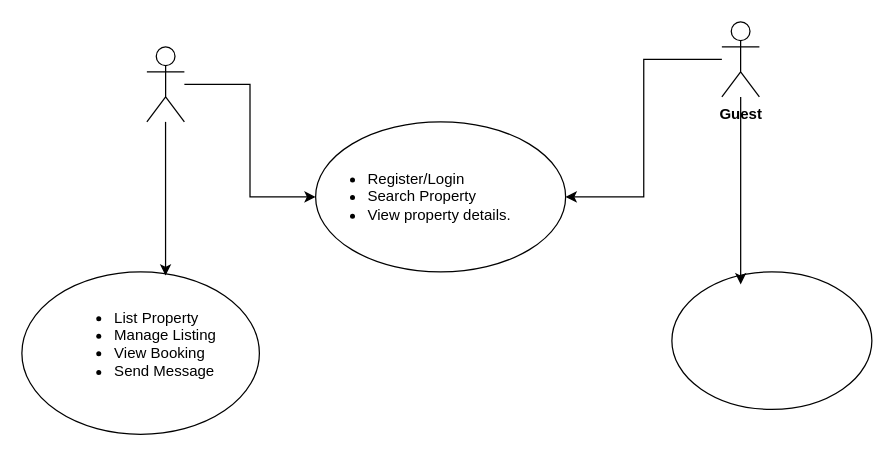
Some shapes in this 894 by 456 pixel diagram are drawn without their labels. The box of each missing label's shape, as (x1, y1, x2, y2) in pixels:
Book property Make payment Send message Leave review: (671, 271, 872, 409)
Host: (146, 46, 184, 122)
